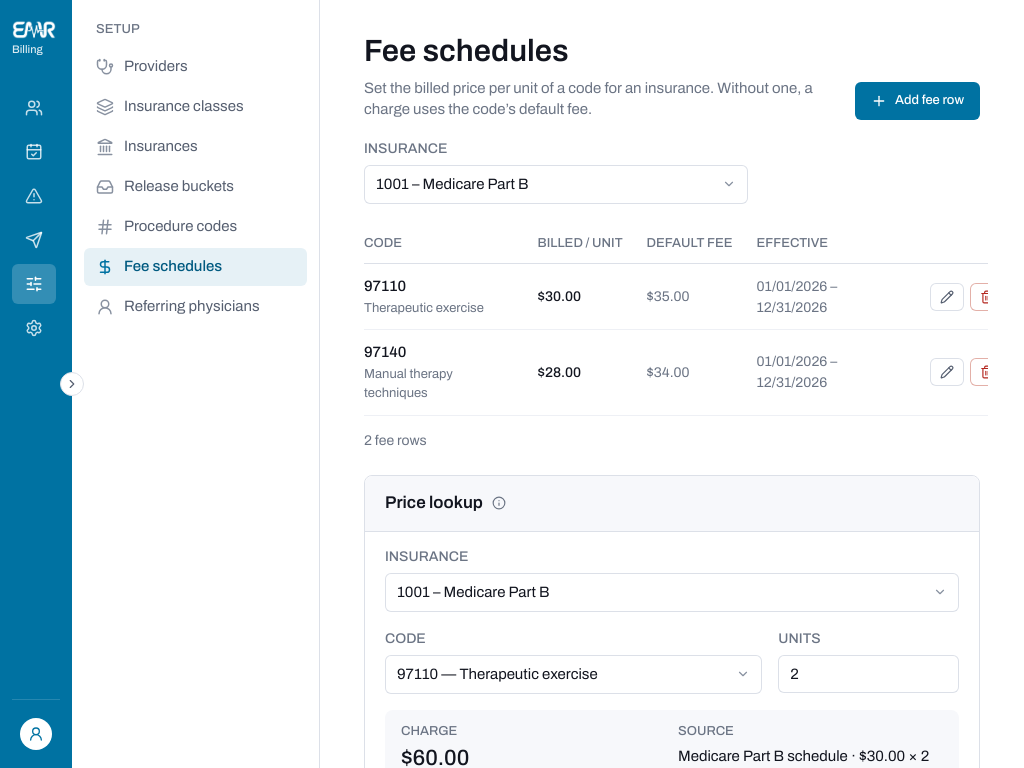
Scenario: Setup → Fee schedules › looks up a price: the payer’s row while in effect, otherwise the default fee
Check: the element "Price lookup" shows "$60.00", box [401,746,469,767]
Check: the element "Price lookup" shows "Medicare Part B schedule · $30.00 × 2", box [678,748,929,764]
Replace the text in the number field labelled "Units" with "3" at (869, 674), box [790,655,947,693]
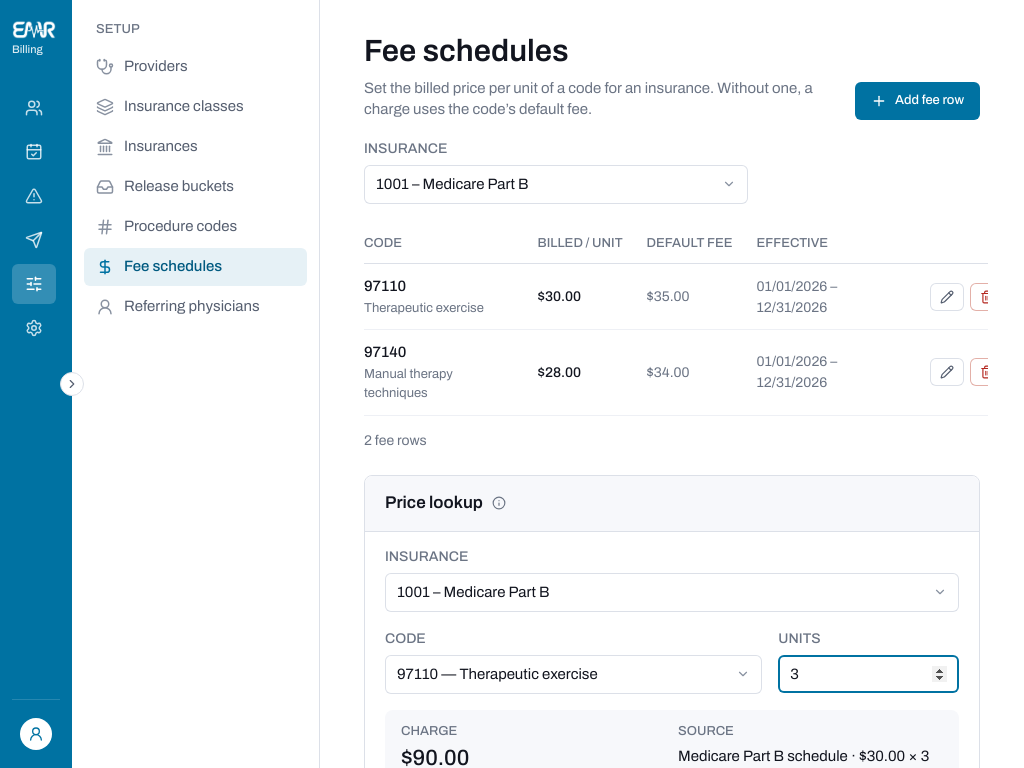
Check: the element "Price lookup" shows "$90.00", box [401,746,469,767]
Click the dropdown named "Code" at (574, 674), box [385,655,762,694]
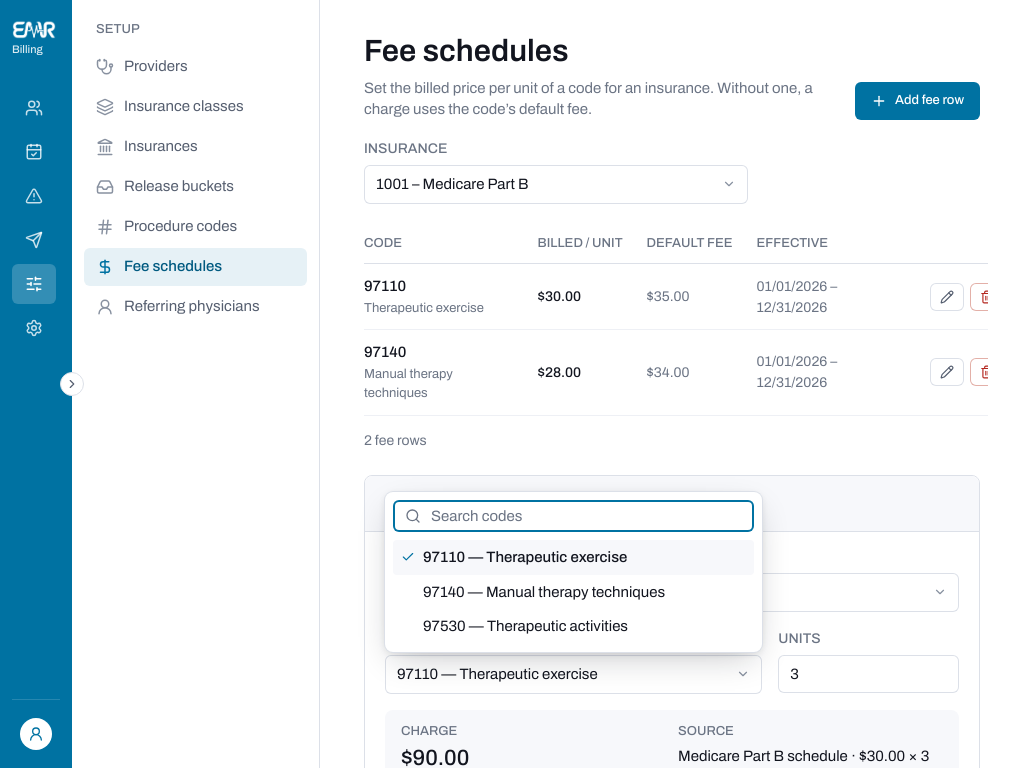
Click the option "97530 — Therapeutic activities" at (526, 626), box [423,618,628,634]
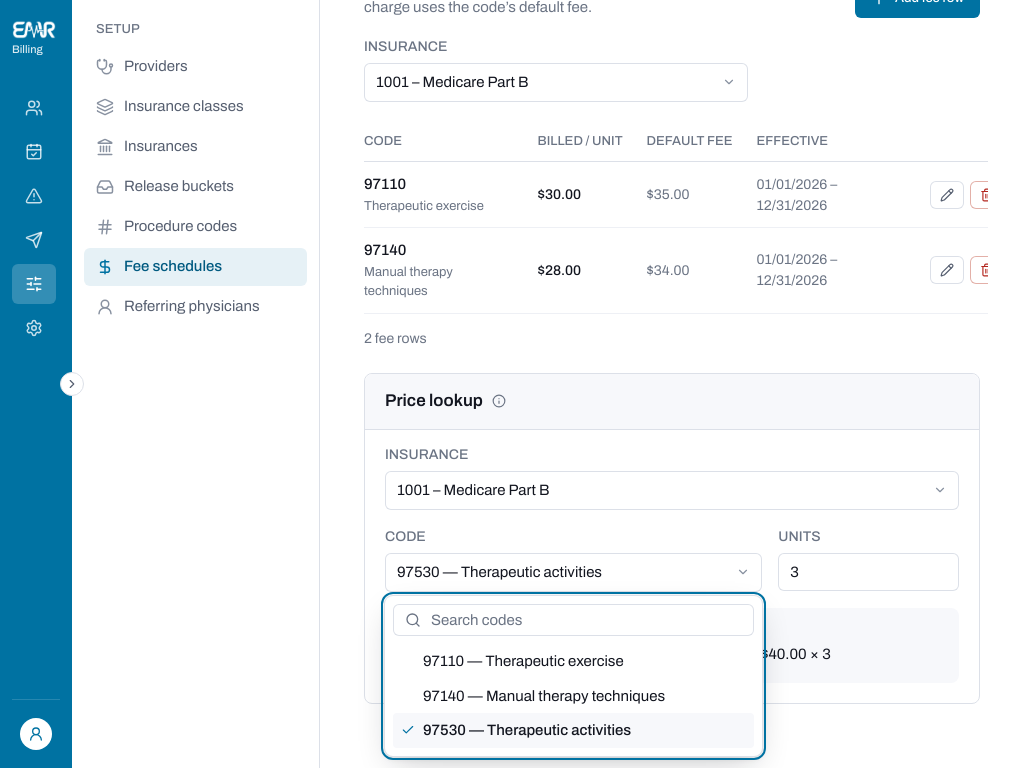
Check: the element "Price lookup" shows "Default fee · $40.00 × 3", box [678,646,831,662]
